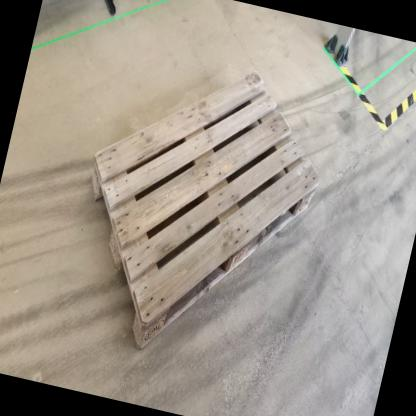BoxFace: (87, 64, 324, 356)
